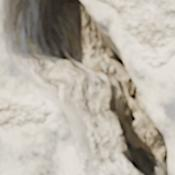broken_brick: (83, 0, 174, 171), (0, 0, 82, 174)
crack: (2, 0, 174, 174)
